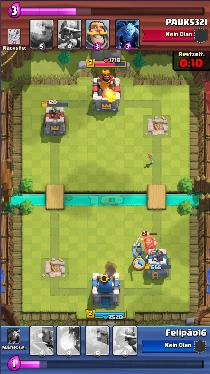ally_knight: (132, 245, 148, 265)
enemy_knight: (140, 237, 156, 251)
